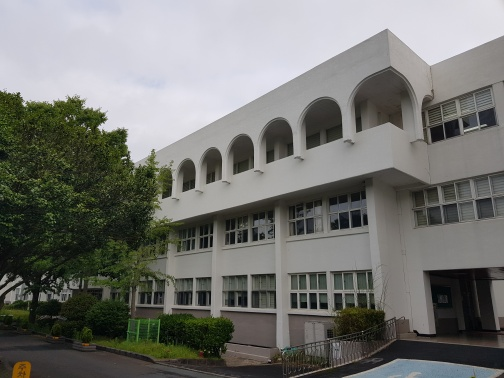Main Building of University: (143, 22, 503, 350), (197, 93, 349, 185)
